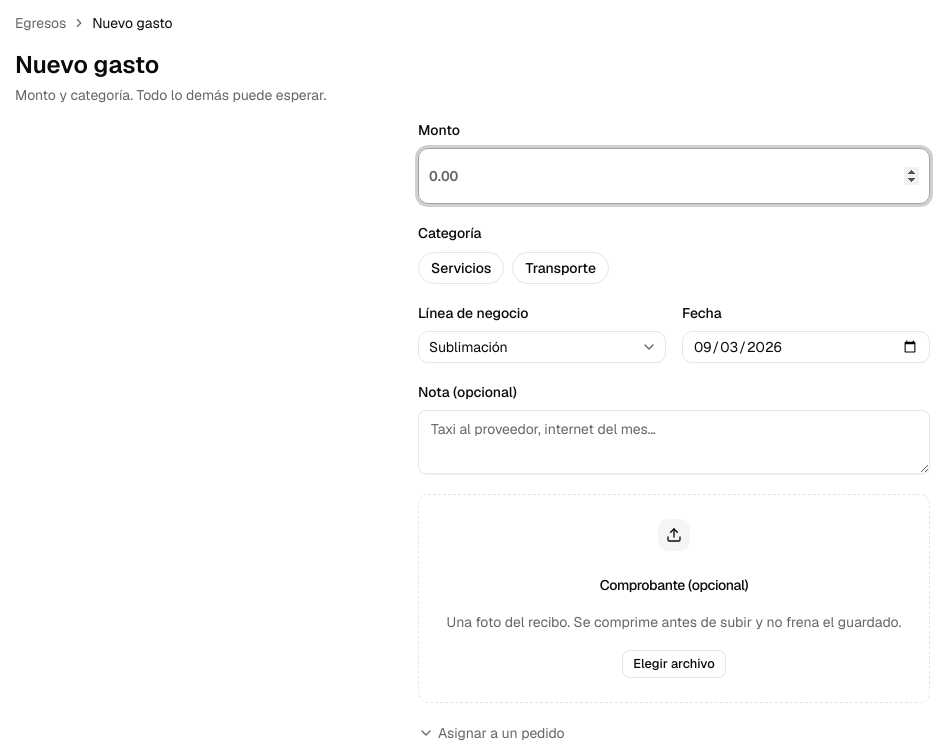
it: CostForm (V9) › sin monto se impide señalando el monto
Click the radio button labelled "Servicios".
click(461, 268)  # box [418,252,504,284]
(page scrolled)
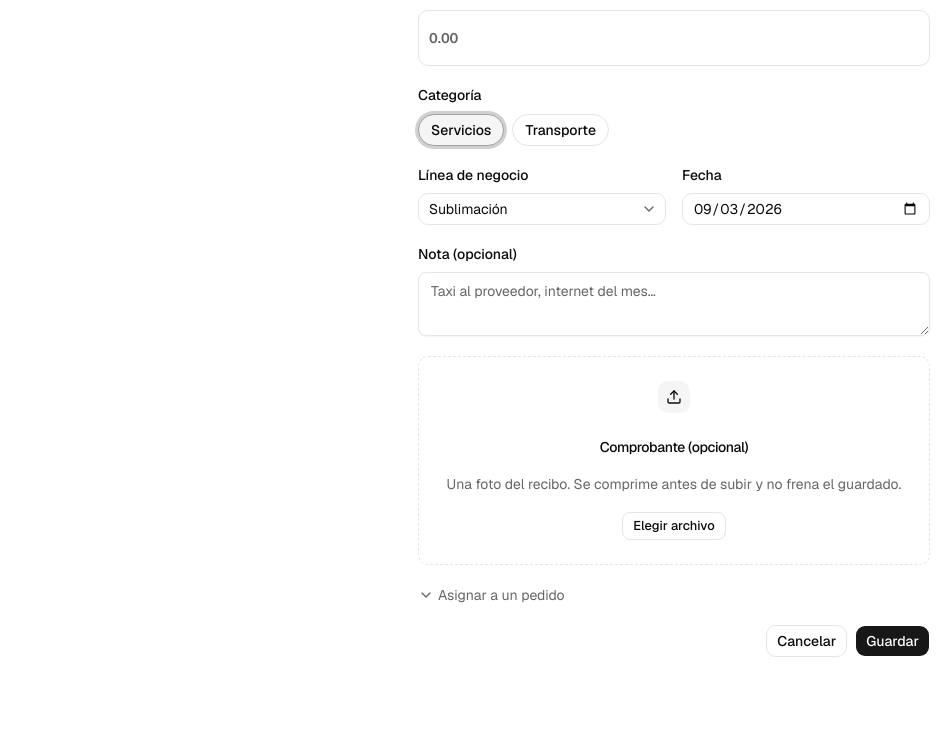
Click the button with test id "save-cost".
click(893, 641)  # box [855,625,930,657]
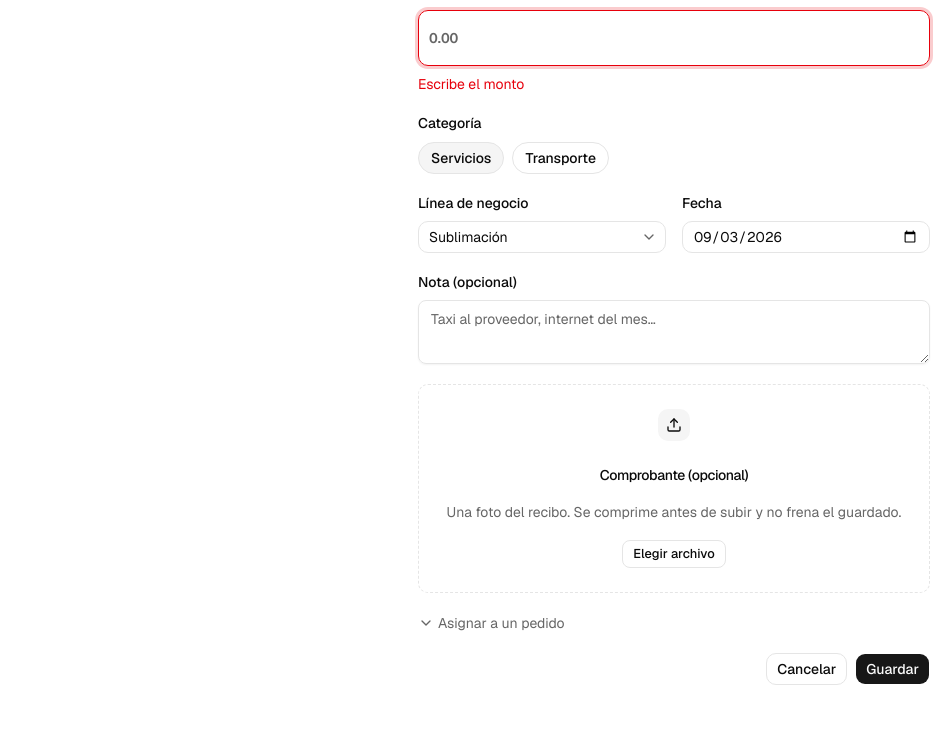
Result: the message with test id "amount-error" reads "Escribe el monto" at [418,75,524,93]
